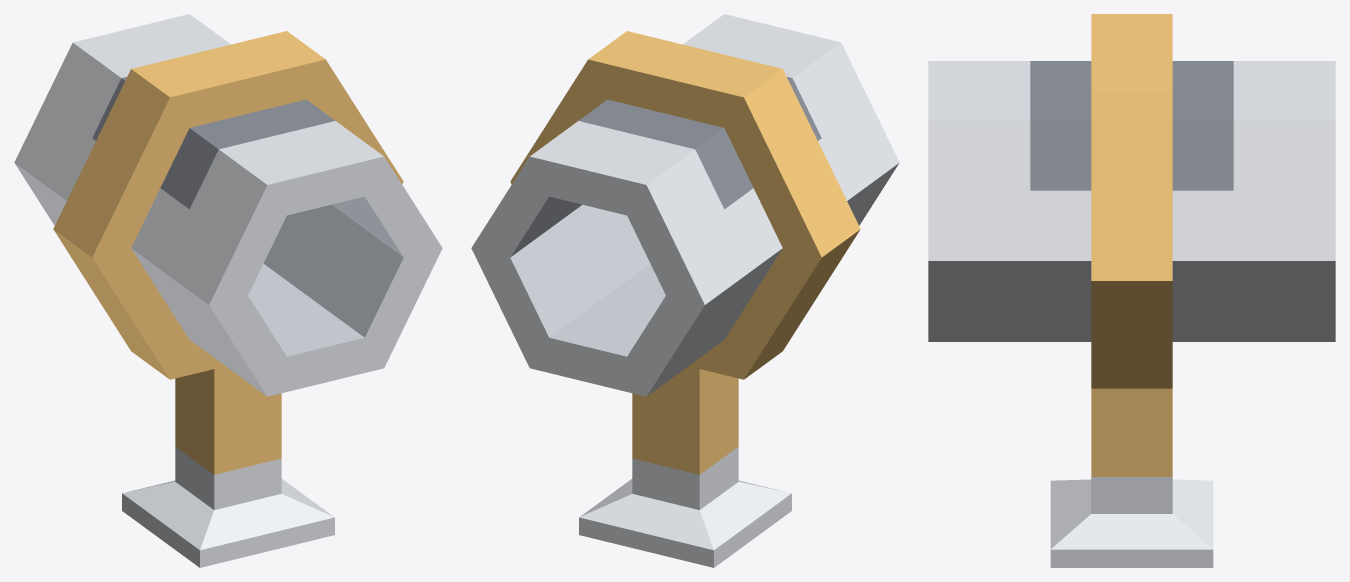
Rendered from pipe_ringHigh.glb.
The picture shows the model from 3 angles, left to right: view 1: azimuth 30°, elevation 25°; view 2: azimuth 150°, elevation 25°; view 3: azimuth 270°, elevation 25°; orthographic projection. The views are drawn at different scales.
Visible parts, largest first — view 1: pipe_ringHigh; view 2: pipe_ringHigh; view 3: pipe_ringHigh.
Part boxes in pixels (box(x1,y1,x2,y2)): pipe_ringHigh: box(14, 14, 442, 567); pipe_ringHigh: box(471, 14, 899, 567); pipe_ringHigh: box(928, 14, 1335, 567).
Size of the model in its own units: 0.9238 by 1.3 by 1.
